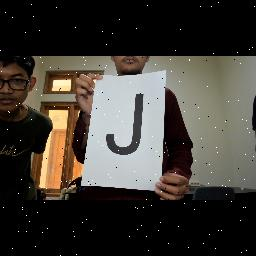j: (103, 92, 151, 156)
